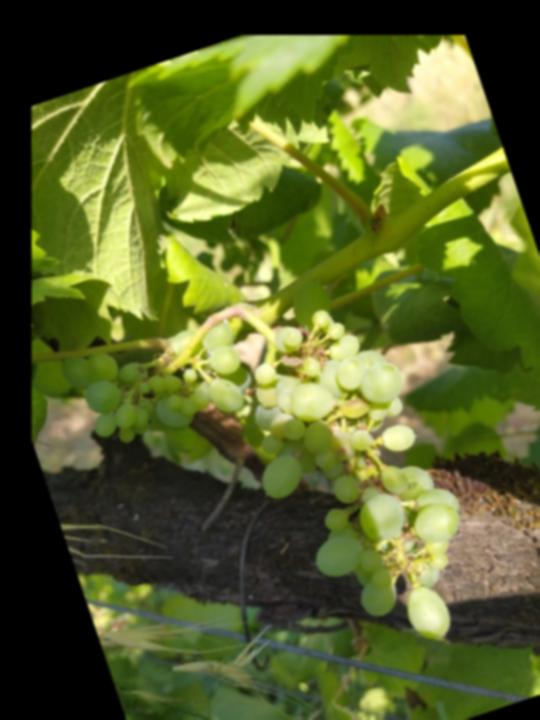grape: (50, 249, 505, 720)
